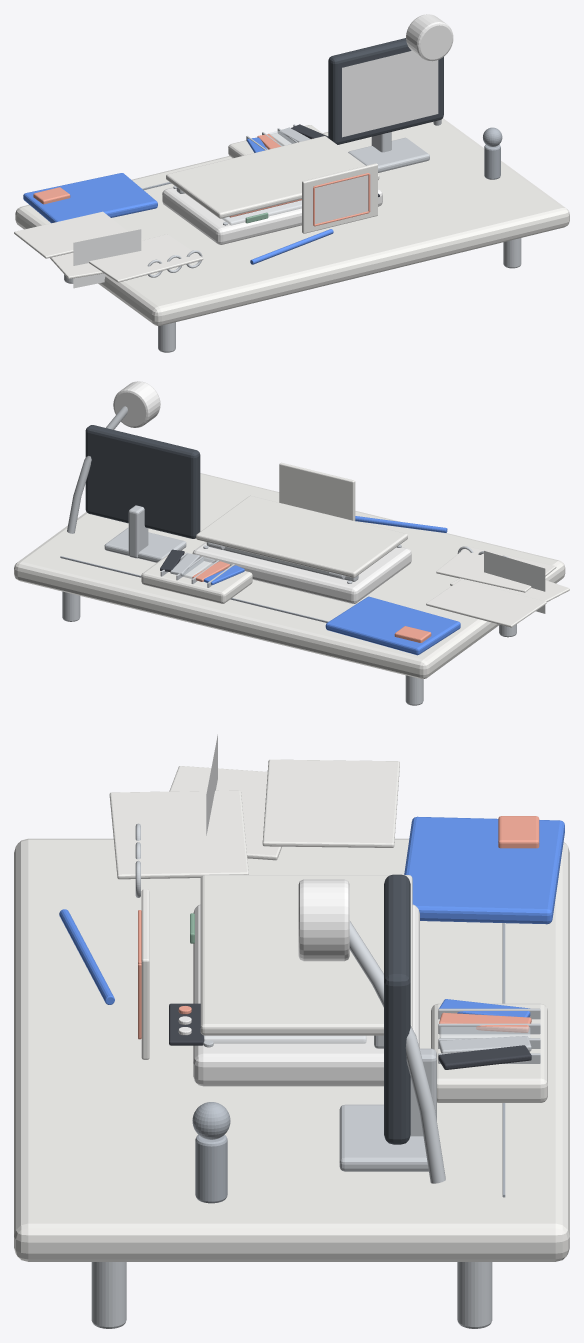
File: observe.glb
The picture shows the model from 3 angles, top to bottom: view 1: azimuth 30°, elevation 25°; view 2: azimuth 150°, elevation 25°; view 3: azimuth 270°, elevation 25°; orthographic projection. The views are drawn at different scales.
Parts seen in each view (by area): view 1: OBS_research_table, OBS_scanner_lid, SCREEN_observe_inspection, OBS_folder, OBS_scanner_body, OBS_monitor_frame, OBS_paper_2, OBS_paper_1, PRINT_observe_output, PRINT_observe_persona, OBS_lamp_shade, OBS_output_card (+8 smaller); view 2: OBS_research_table, OBS_monitor_frame, OBS_scanner_lid, OBS_scanner_body, OBS_folder, OBS_output_card, OBS_paper_2, OBS_material_tray, OBS_paper_1, OBS_lamp_shade, PRINT_observe_persona, OBS_monitor_foot (+9 smaller); view 3: OBS_research_table, OBS_scanner_lid, OBS_folder, OBS_paper_2, OBS_scanner_body, OBS_paper_1, OBS_monitor_frame, OBS_material_tray, OBS_monitor_foot, OBS_lamp_shade, OBS_paper_0, OBS_lamp_arm (+16 smaller).
Part boxes in pixels (<box>): OBS_research_table: <box>15,118,569,325</box>; OBS_scanner_lid: <box>166,136,379,218</box>; SCREEN_observe_inspection: <box>342,51,438,137</box>; OBS_folder: <box>23,173,157,223</box>; OBS_scanner_body: <box>162,187,382,244</box>; OBS_monitor_frame: <box>328,38,443,144</box>; OBS_paper_2: <box>14,211,127,258</box>; OBS_paper_1: <box>89,234,203,282</box>; PRINT_observe_output: <box>310,173,371,225</box>; PRINT_observe_persona: <box>73,229,141,288</box>; OBS_lamp_shade: <box>406,14,453,61</box>; OBS_output_card: <box>302,163,377,233</box>; OBS_research_table: <box>14,473,565,678</box>; OBS_monitor_frame: <box>85,425,200,538</box>; OBS_scanner_lid: <box>196,495,407,577</box>; OBS_scanner_body: <box>192,542,411,603</box>; OBS_folder: <box>325,596,460,655</box>; OBS_output_card: <box>279,462,355,520</box>; OBS_paper_2: <box>426,579,546,627</box>; OBS_material_tray: <box>141,554,252,603</box>; OBS_paper_1: <box>436,546,556,592</box>; OBS_lamp_shade: <box>113,381,160,427</box>; PRINT_observe_persona: <box>484,551,545,613</box>; OBS_monitor_foot: <box>104,527,186,562</box>; OBS_research_table: <box>14,838,569,1261</box>; OBS_scanner_lid: <box>200,875,412,1035</box>; OBS_folder: <box>404,816,564,924</box>; OBS_paper_2: <box>262,759,399,847</box>; OBS_scanner_body: <box>193,904,419,1086</box>; OBS_paper_1: <box>109,790,248,879</box>; OBS_monitor_frame: <box>384,874,410,1144</box>; OBS_material_tray: <box>431,1003,547,1102</box>; OBS_monitor_foot: <box>339,1104,428,1171</box>; OBS_lamp_shade: <box>298,879,349,961</box>; OBS_paper_0: <box>169,766,281,860</box>; OBS_lamp_arm: <box>349,921,445,1183</box>.
Size of the model in its own units: 7.09 by 3.12 by 3.8.
